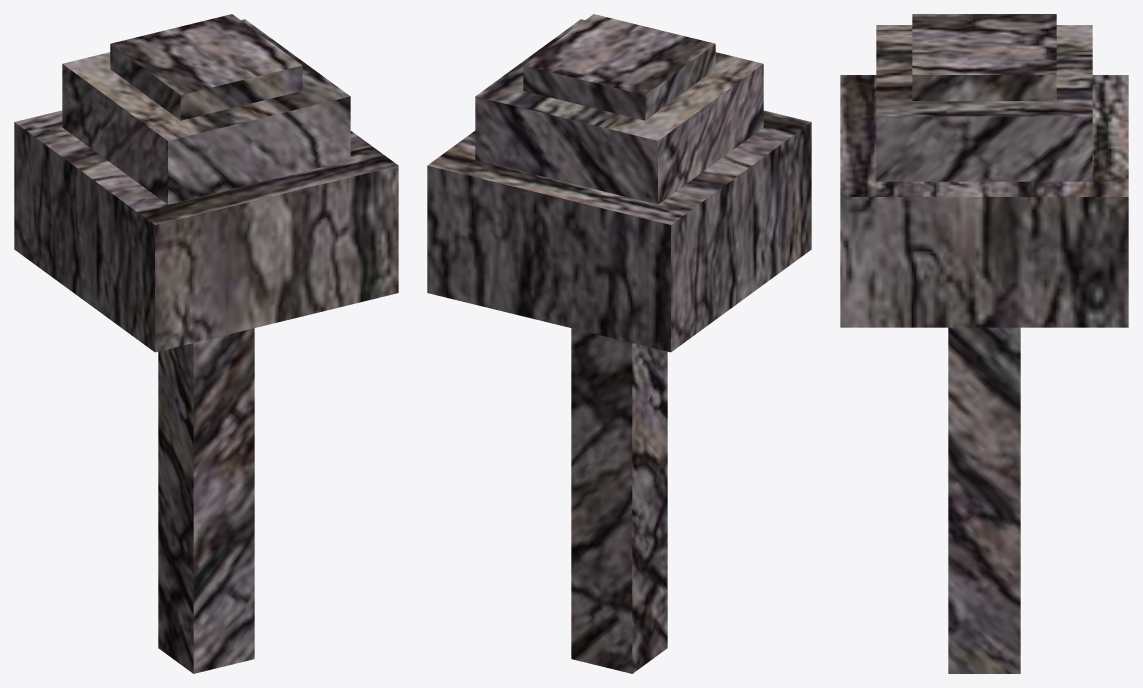
The model's file is treehopefullyworks1.obj.
3 renders of one model, left to right at view 1: azimuth 30°, elevation 25°; view 2: azimuth 150°, elevation 25°; view 3: azimuth 270°, elevation 25°, orthographic. The views are drawn at different scales.
Size of the model in its own units: 1 by 2.35 by 1.
1 material, 1 textured.
